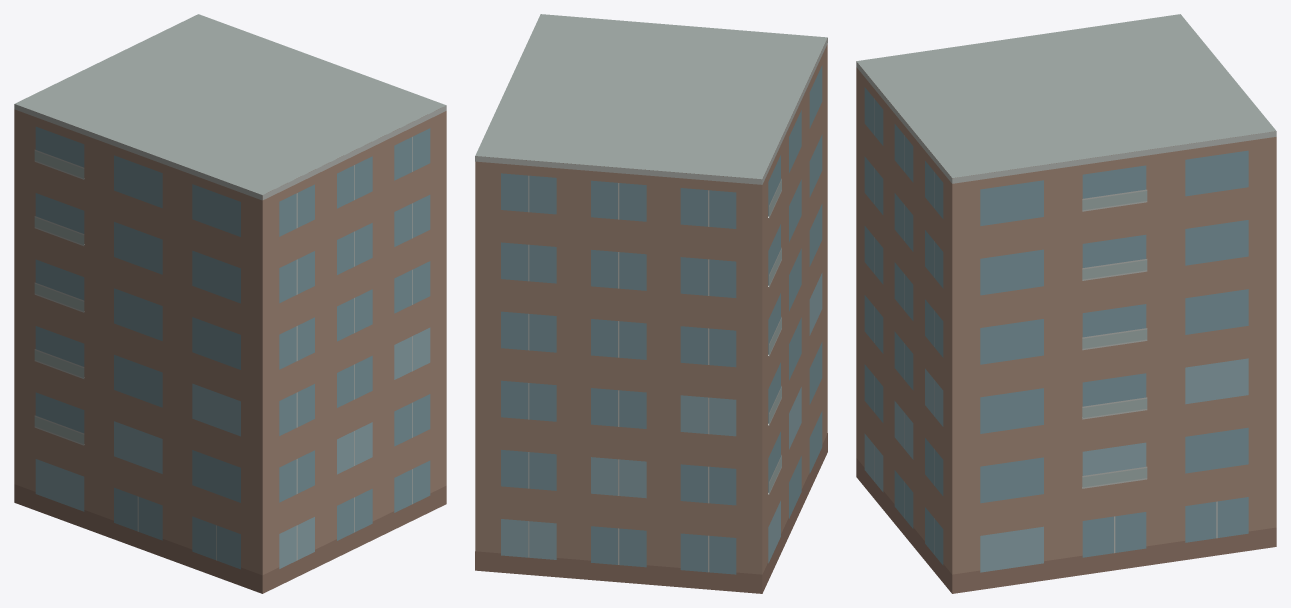
Rendered from survey-upis-32621355.glb.
The picture shows the model from 3 angles, left to right: view 1: azimuth 30°, elevation 25°; view 2: azimuth 150°, elevation 25°; view 3: azimuth 270°, elevation 25°; orthographic projection. The views are drawn at different scales.
Parts seen in each view (by area): view 1: survey-upis-32621355.tmp; view 2: survey-upis-32621355.tmp; view 3: survey-upis-32621355.tmp.
Part boxes in pixels (x1,y1,x2,y2): survey-upis-32621355.tmp: (14, 14, 446, 593); survey-upis-32621355.tmp: (475, 14, 827, 593); survey-upis-32621355.tmp: (856, 14, 1276, 593).
Bounding box in the file's own units: 15.17 × 17.9 × 16.41.
